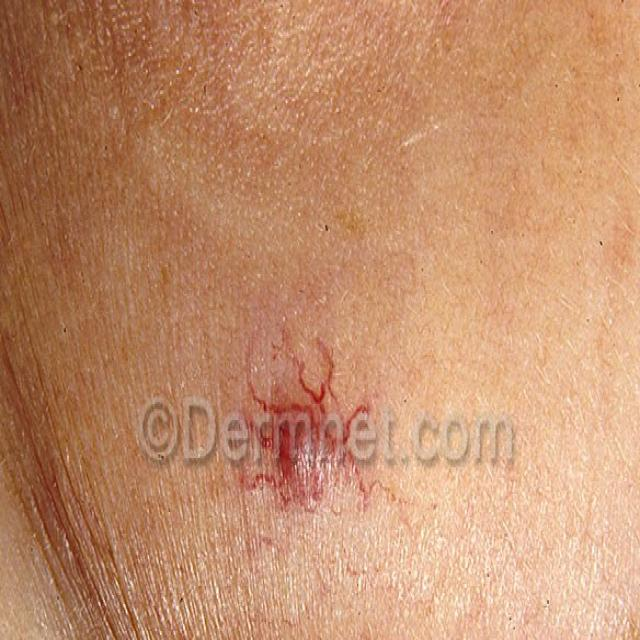Vascular Tumors: (227, 316, 370, 548)
